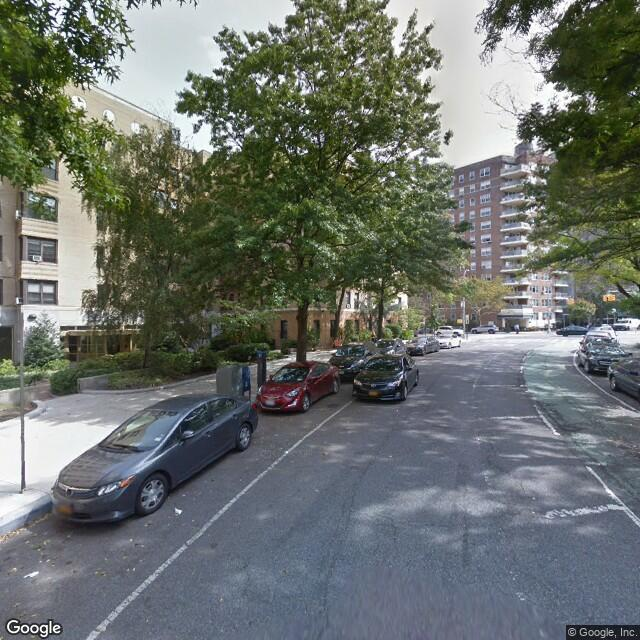litter: (23, 569, 40, 578), (173, 506, 183, 517)
